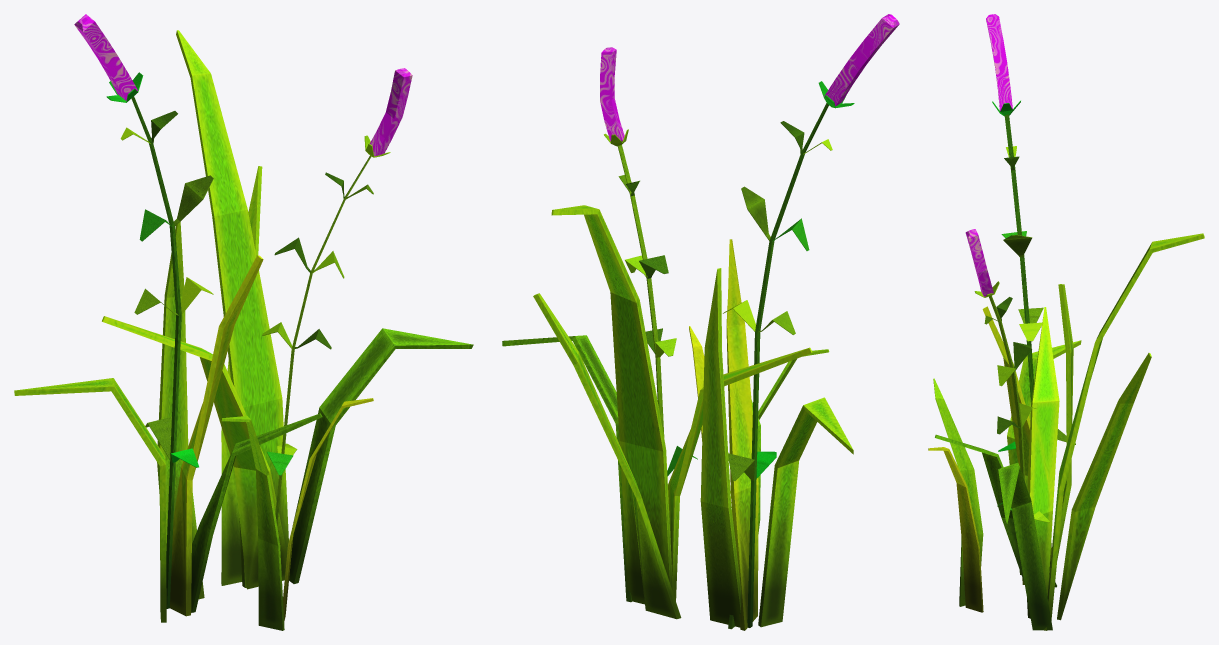
Rendered from tall_grass.glb.
The picture shows the model from 3 angles, left to right: view 1: azimuth 30°, elevation 25°; view 2: azimuth 150°, elevation 25°; view 3: azimuth 270°, elevation 25°; orthographic projection. The views are drawn at different scales.
Parts seen in each view (by area): view 1: Plane, Plane.001; view 2: Plane, Plane.001; view 3: Plane, Plane.001.
Boxes of the visible parts, x1,y1,x2,y2 form: Plane: (14,30,473,630); Plane.001: (74,14,412,608); Plane: (502,205,853,630); Plane.001: (600,14,899,627); Plane: (928,233,1204,630); Plane.001: (965,14,1075,618).
Bounding box in the file's own units: 0.7241 × 1.07 × 0.5165.
2 materials, 2 textured.
